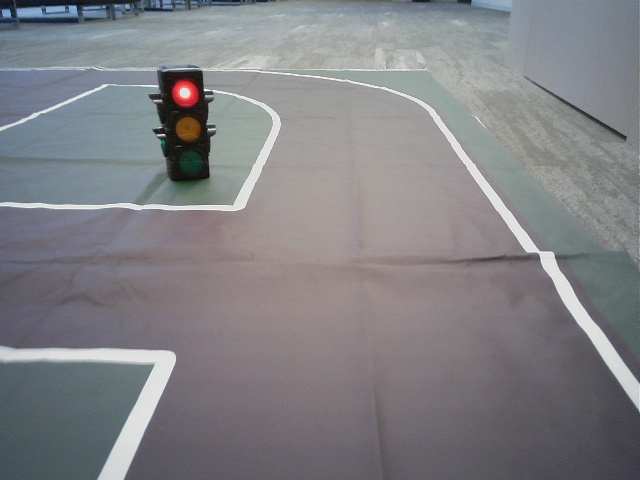red: (166, 72, 206, 175)
